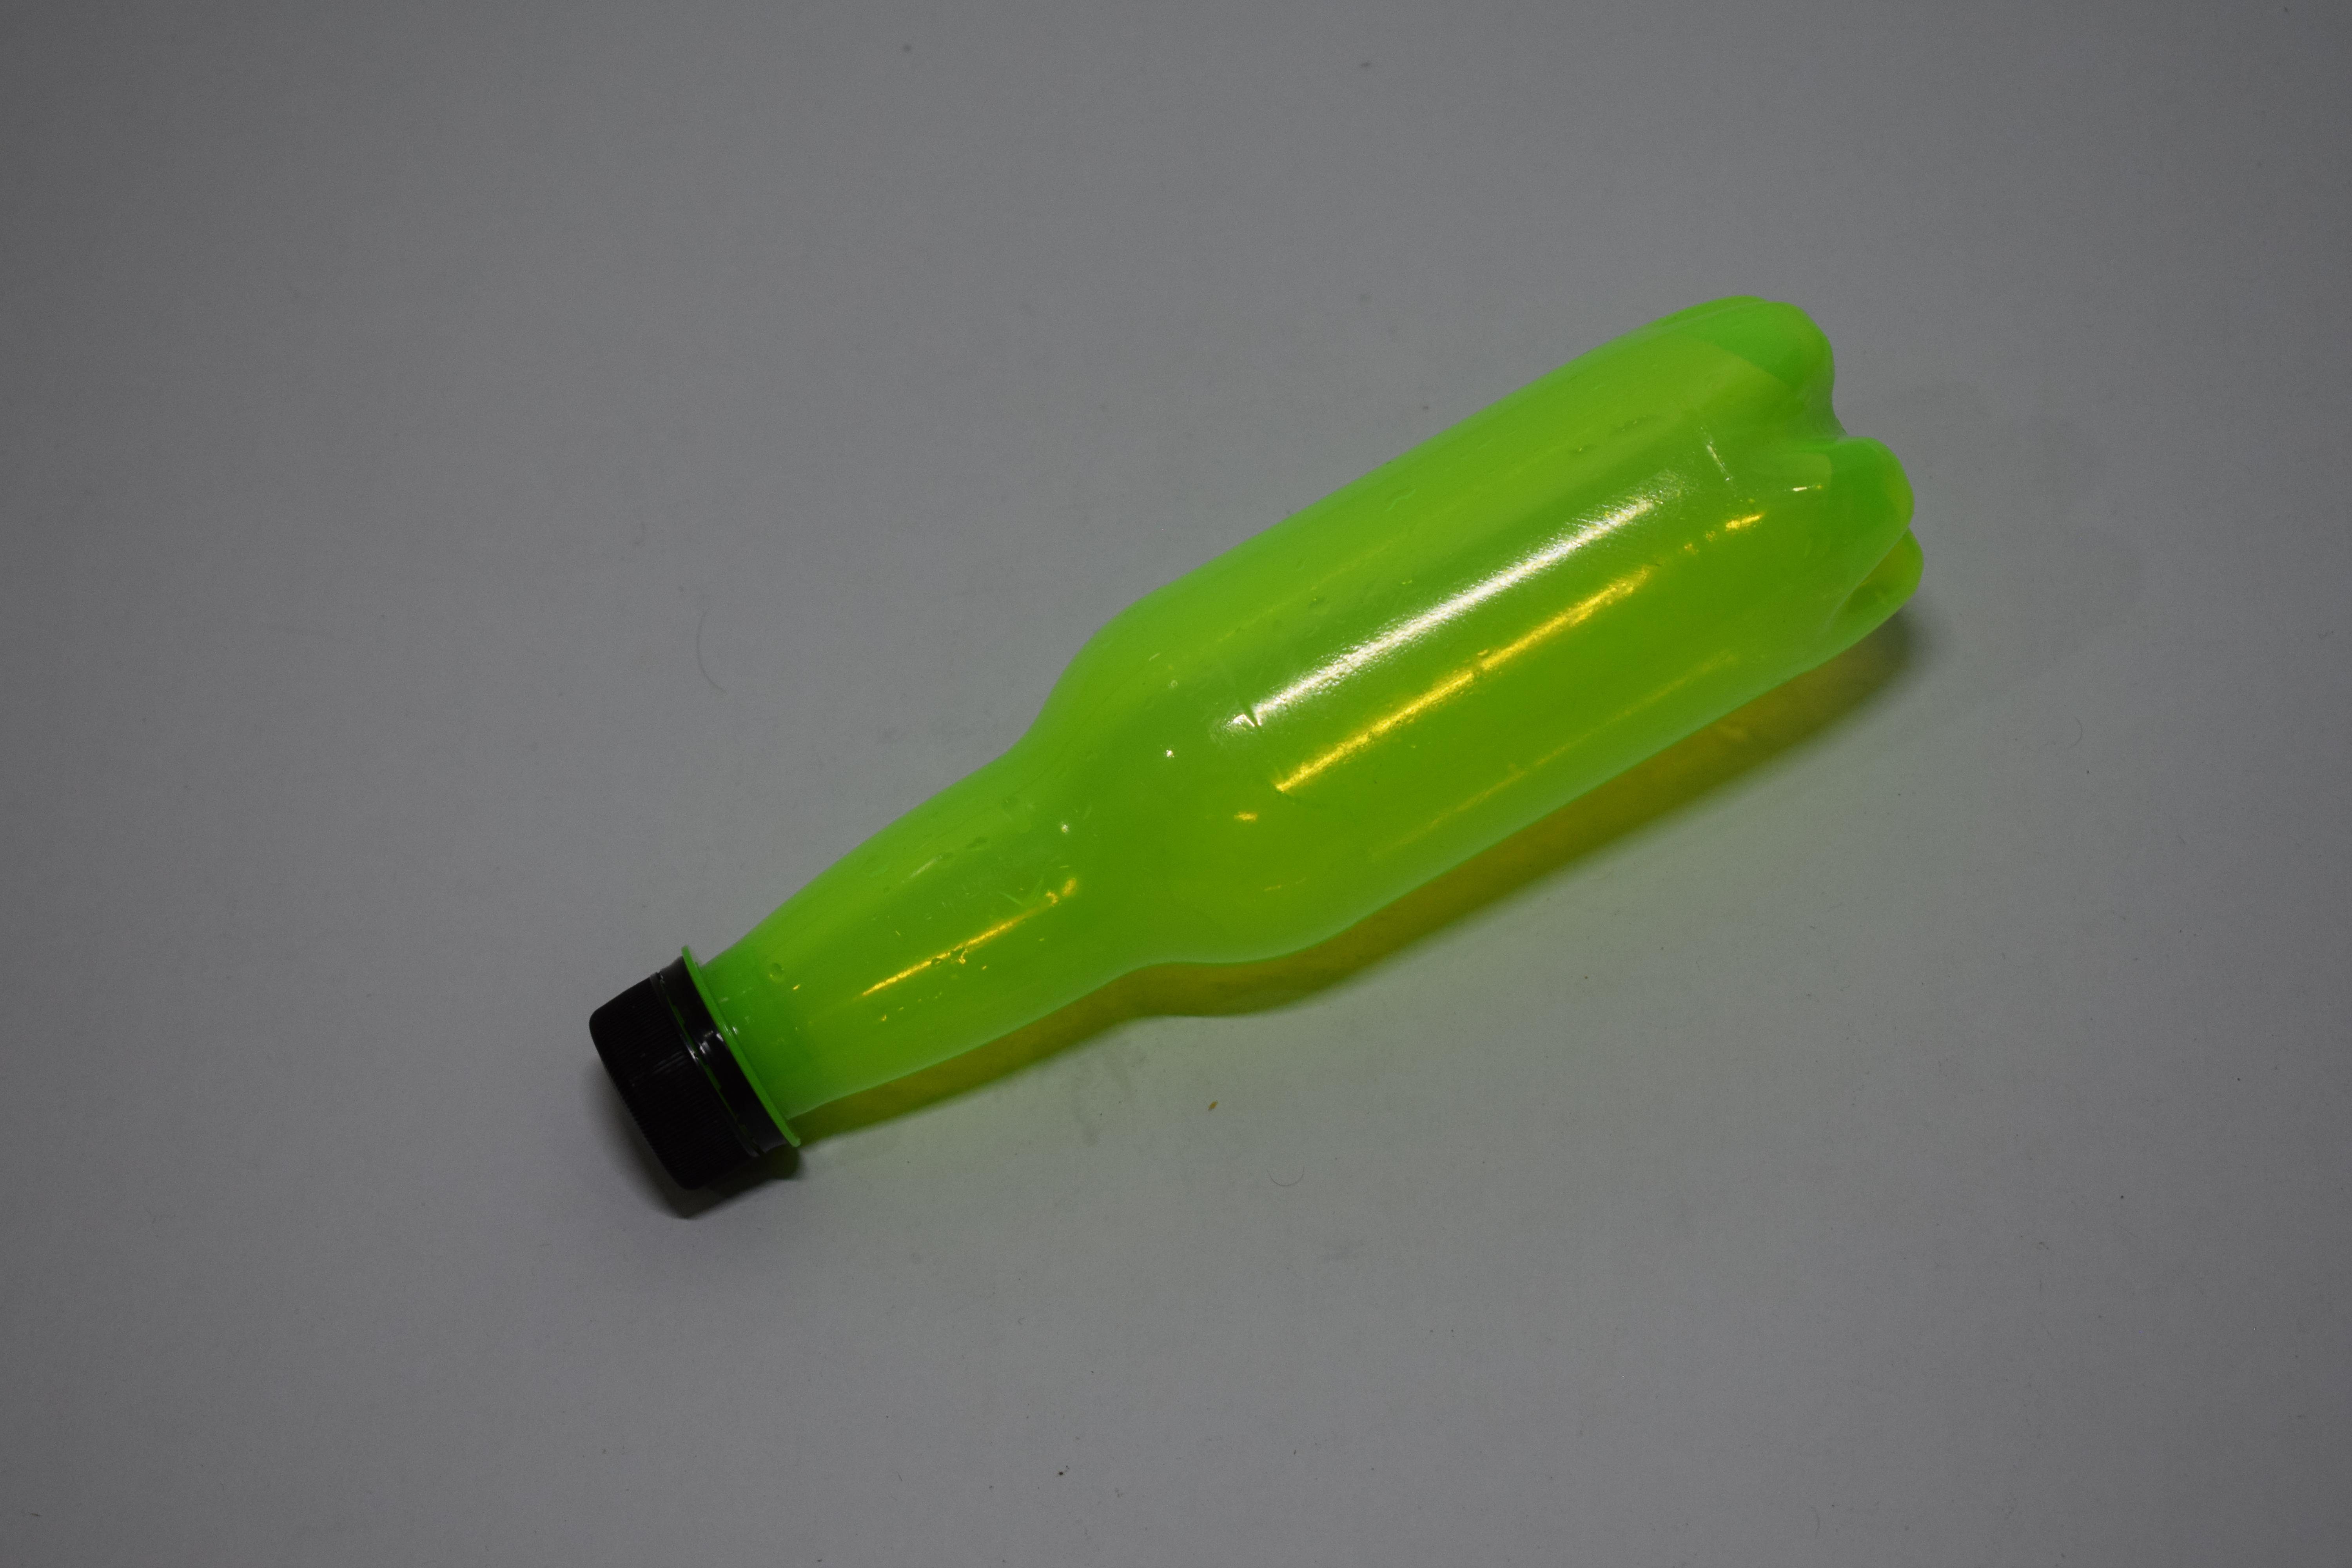bottle: (0, 679, 165, 831)
